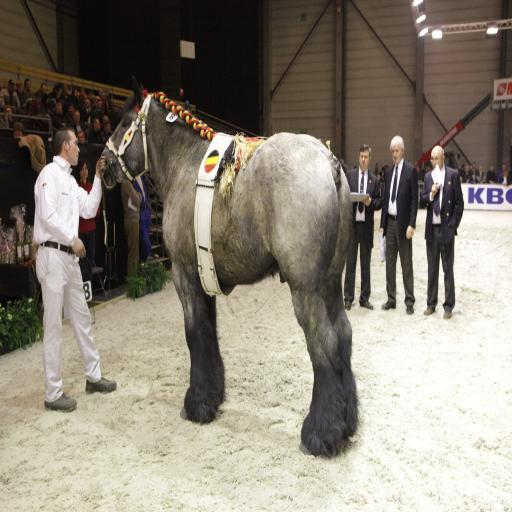horse: (100, 74, 358, 458)
